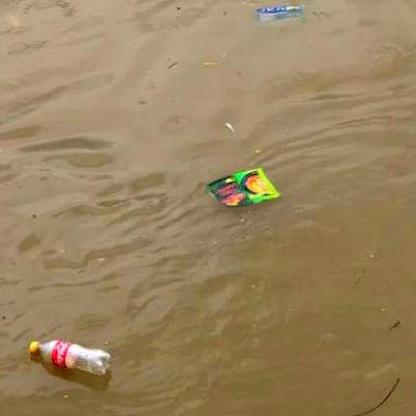plastic bag: (207, 169, 279, 206), (256, 6, 304, 22)
plastic bottle: (28, 340, 112, 376)
